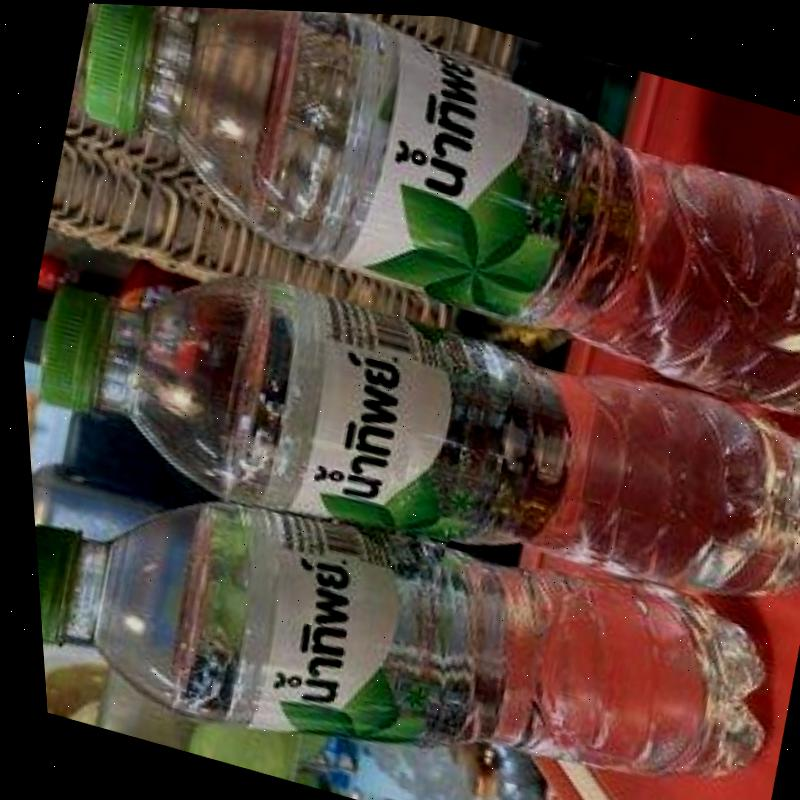botella: (11, 207, 800, 653), (42, 1, 800, 418), (21, 399, 787, 800)
